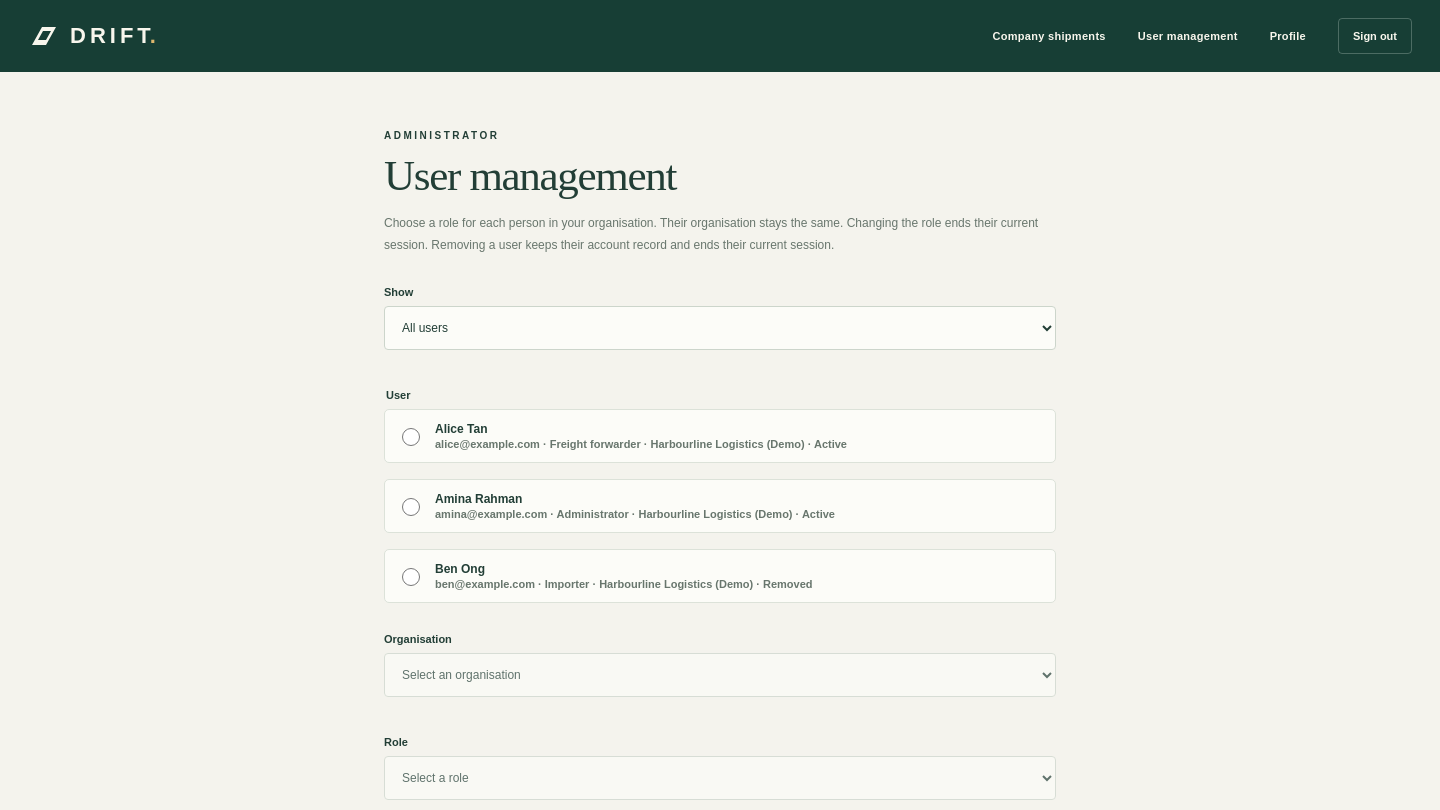
it: account removal › hides Remove for the administrator and for removed users, and locks a removed user
Click the radio button labelled "Amina Rahman": x=411, y=507 402,498 -> 420,516
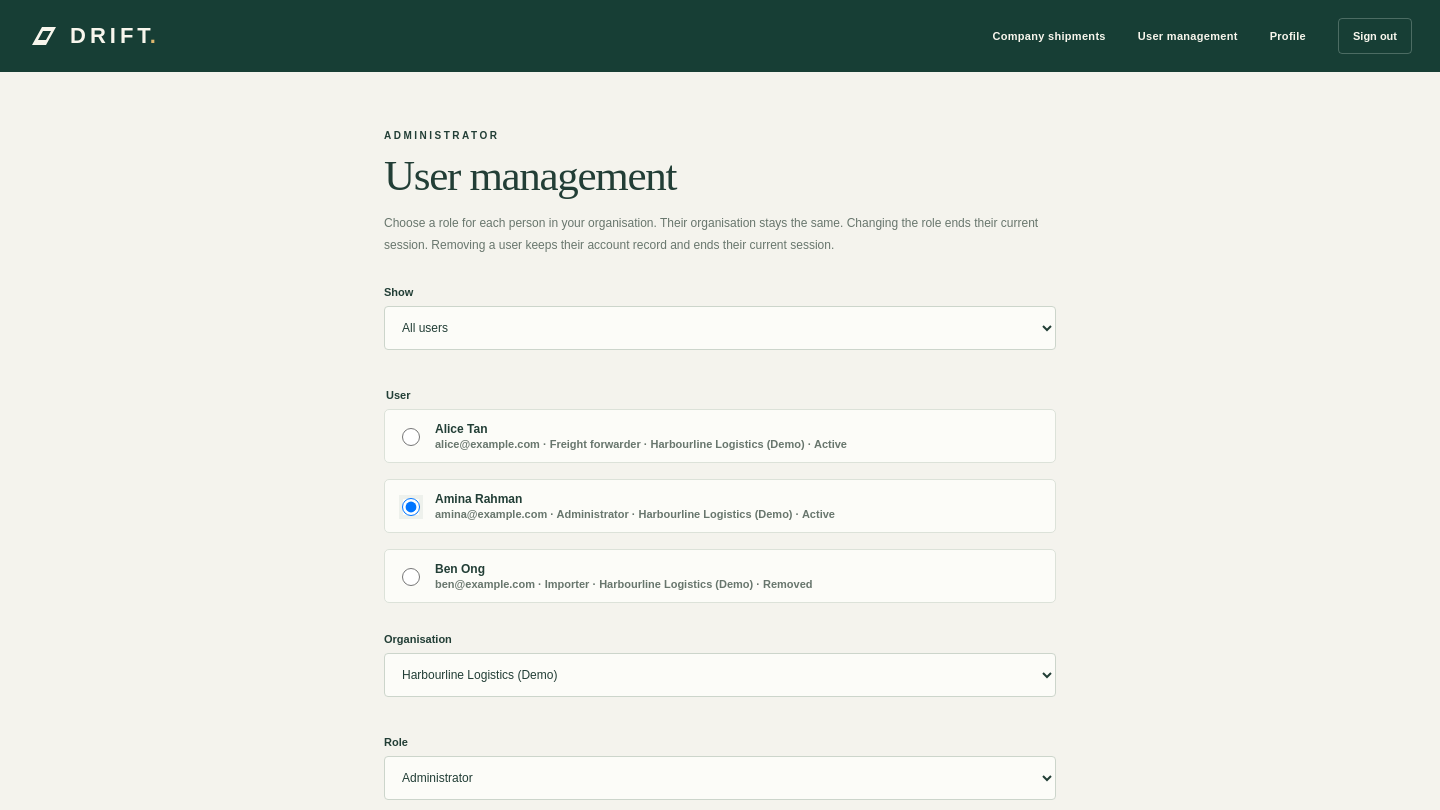
Click the radio button labelled "Ben Ong": x=411, y=577 402,568 -> 420,586
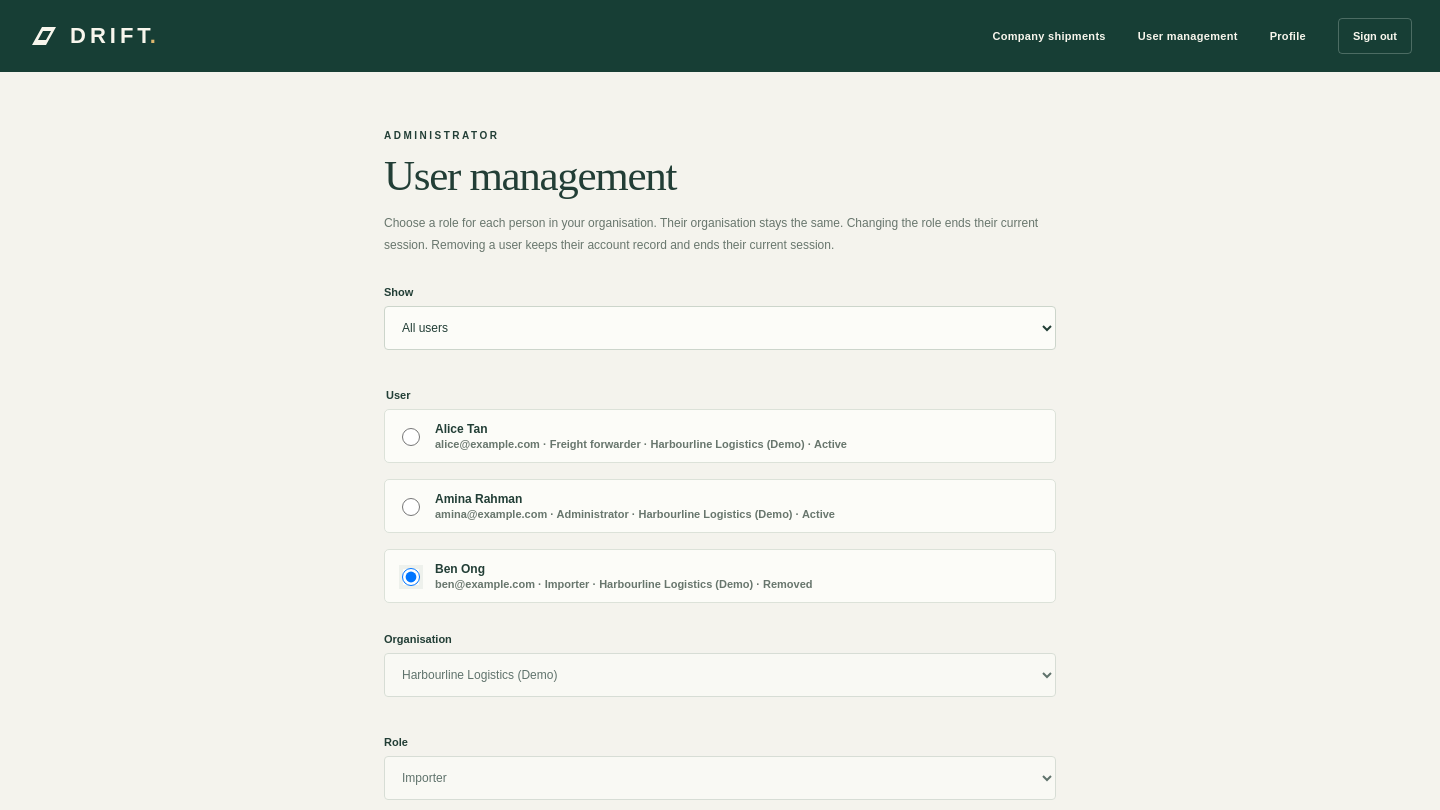
Result: the dropdown labelled "Role" is disabled at 384,756 -> 1056,800
Click the radio button labelled "Alice Tan": x=411, y=437 402,428 -> 420,446
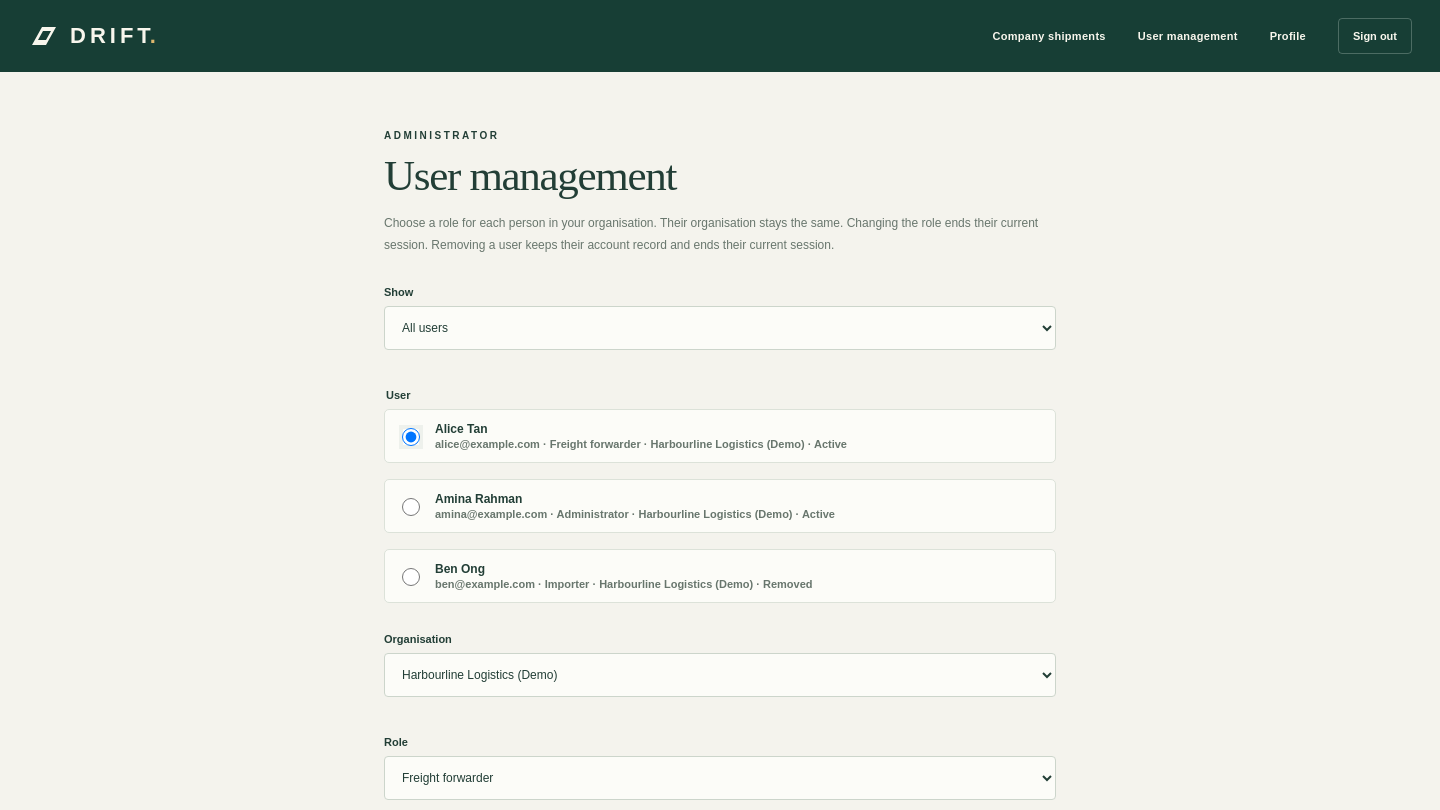
Result: the dropdown labelled "Role" is enabled at 384,756 -> 1056,800
